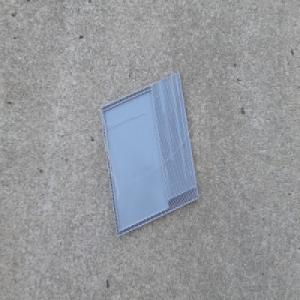PlasticPart: (99, 70, 200, 239)
